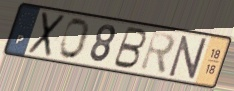8: (89, 24, 117, 64)
B: (110, 25, 149, 71)
N: (167, 34, 209, 81)
O: (58, 17, 93, 62)
R: (138, 29, 177, 77)
X: (25, 10, 68, 59)
